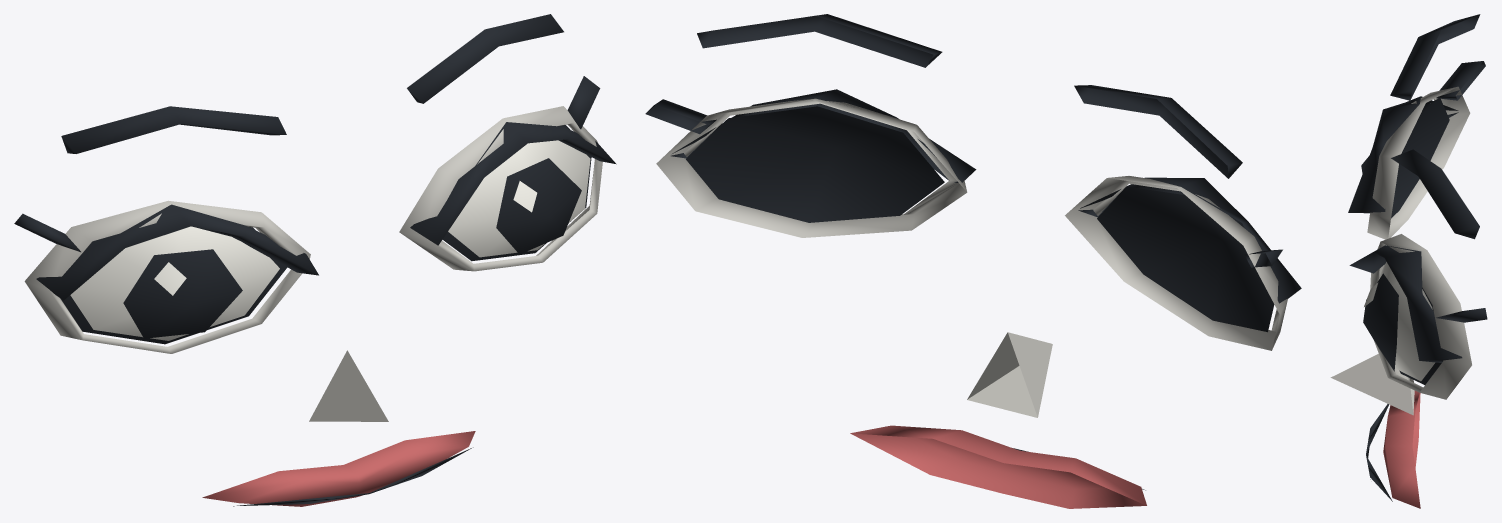
Rendered from face_soft_smile_01.glb.
3 renders of one model, left to right at view 1: azimuth 30°, elevation 25°; view 2: azimuth 150°, elevation 25°; view 3: azimuth 270°, elevation 25°, orthographic. The views are drawn at different scales.
Parts seen in each view (by area): view 1: Relief soft_smile, Nose.001; view 2: Relief soft_smile, Nose.001; view 3: Relief soft_smile, Nose.001.
Part boxes in pixels (x1,y1,x2,y2): Relief soft_smile: [14, 14, 616, 506]; Nose.001: [309, 350, 388, 421]; Relief soft_smile: [645, 14, 1301, 508]; Nose.001: [967, 332, 1052, 417]; Relief soft_smile: [1348, 14, 1487, 508]; Nose.001: [1330, 353, 1414, 415].
Bounding box in the file's own units: 0.3768 × 0.2573 × 0.0987.
